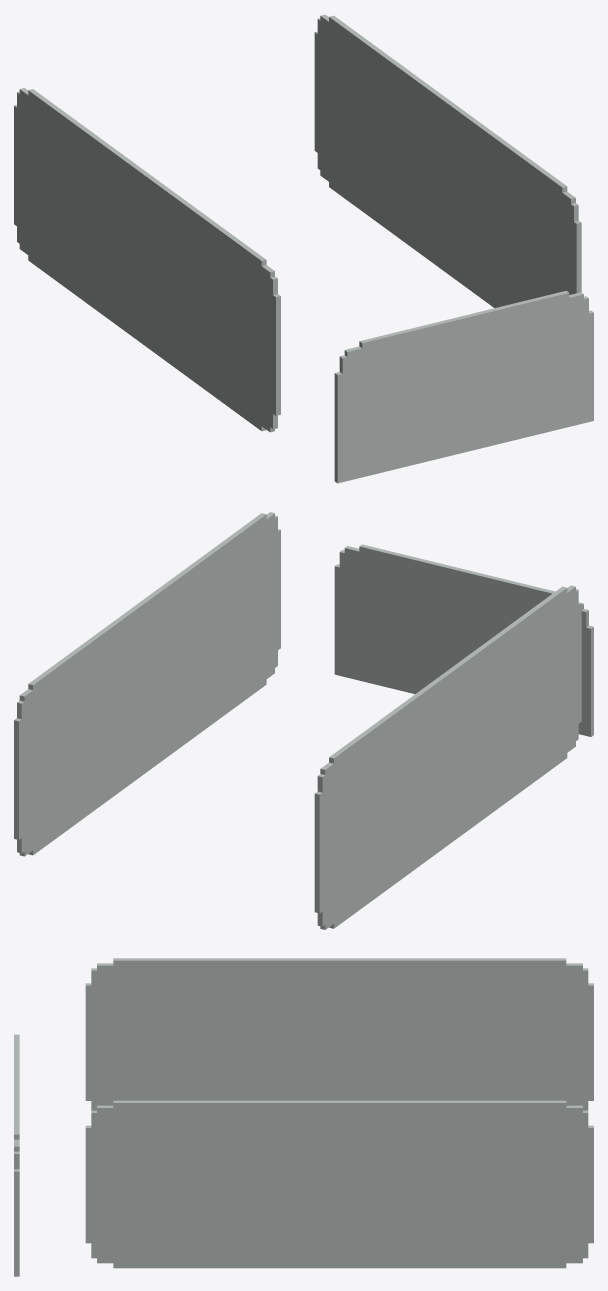
File: Monorail_001-0.obj
3 renders of one model, top to bottom at view 1: azimuth 30°, elevation 25°; view 2: azimuth 150°, elevation 25°; view 3: azimuth 270°, elevation 25°, orthographic. The views are drawn at different scales.
Bounding box in the file's own units: 6.2 × 3.7 × 10.5.
1 material, 1 textured.
